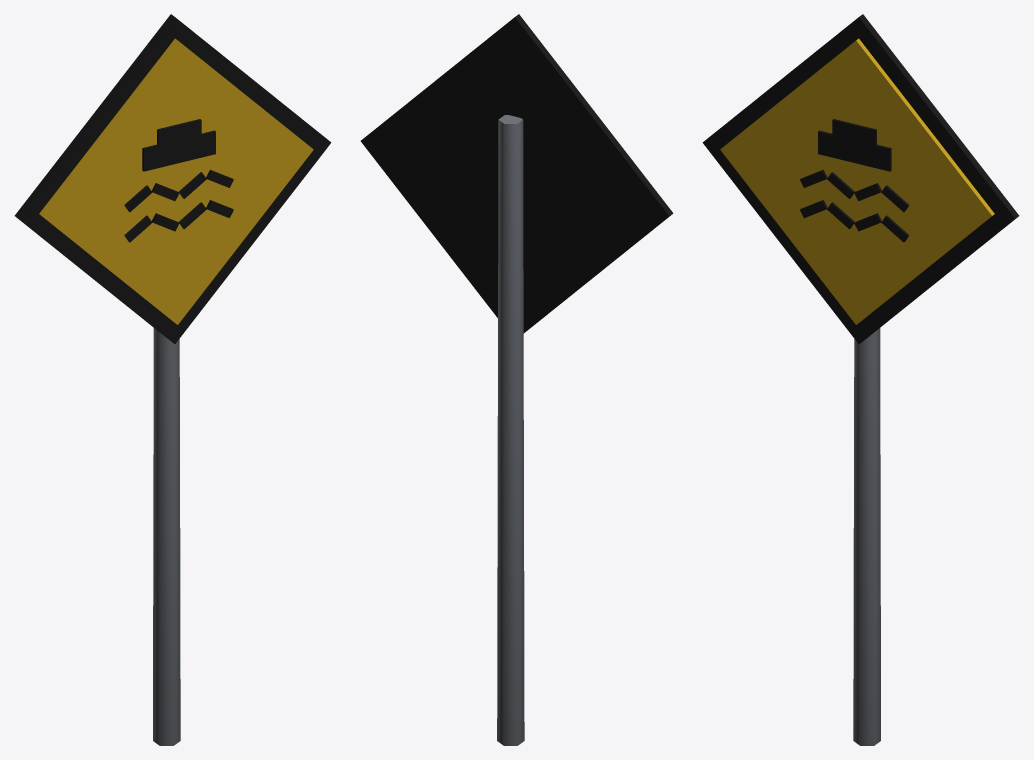
File: placa_vau.glb
The picture shows the model from 3 angles, left to right: view 1: azimuth 30°, elevation 25°; view 2: azimuth 150°, elevation 25°; view 3: azimuth 330°, elevation 25°; orthographic projection.
Parts seen in each view (by area): view 1: placa_vau_liso; view 2: placa_vau_liso; view 3: placa_vau_liso.
Part boxes in pixels (bbox=[...]): placa_vau_liso: bbox=[14, 14, 331, 745]; placa_vau_liso: bbox=[360, 14, 673, 745]; placa_vau_liso: bbox=[702, 14, 1019, 745].
Size of the model in its own units: 1.3 by 2.9 by 0.145.
